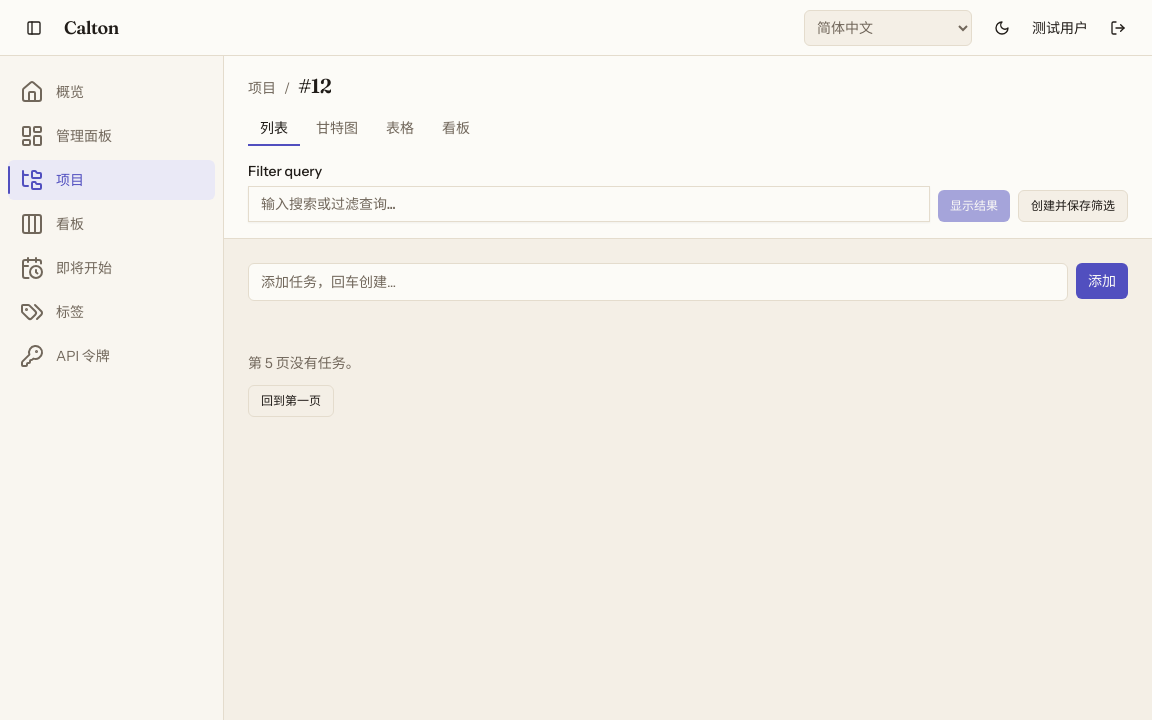
Test: List 视图：空态 › ★ 翻过最后一页时提示的是"这一页没有"，并给回第一页的出口
Expected: the element with test id "list-empty-page" shows "第 5 页没有任务", 248,354 -> 360,417
Click the button with test id "back-to-first-page" at (291, 401), box 248,385 -> 334,417
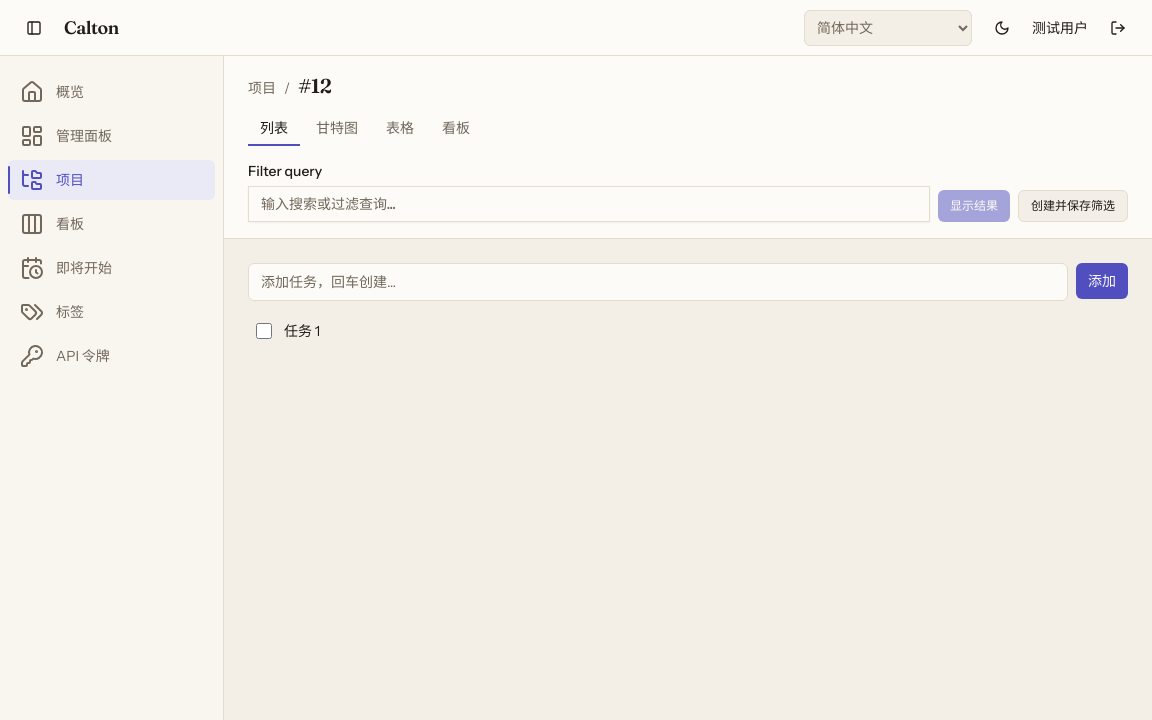
Expected: the link "任务 1" is shown, 284,322 -> 320,340
